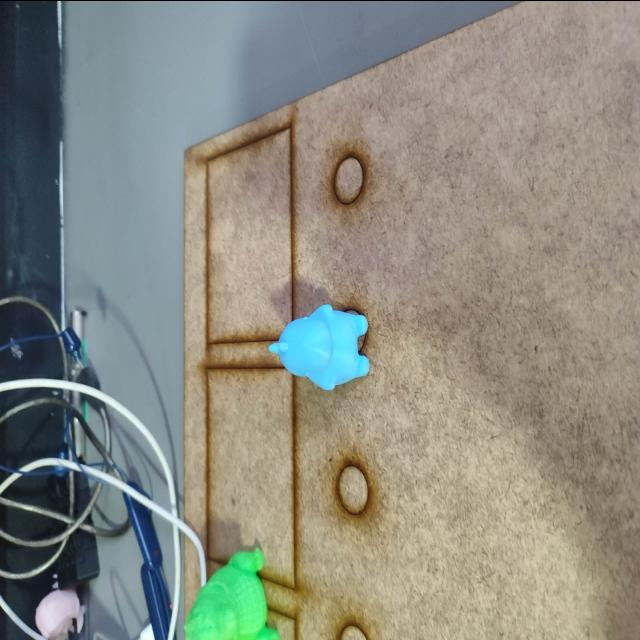DINO: (255, 281, 382, 398)
